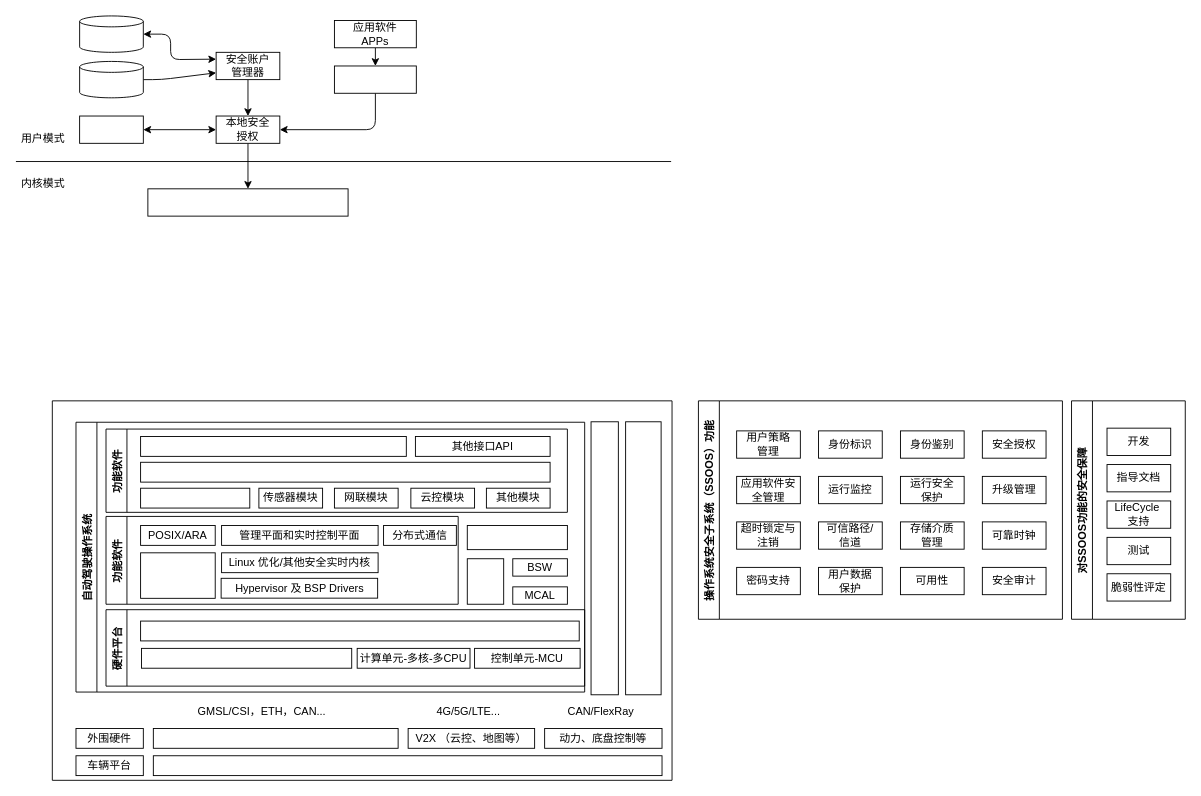
Image size: 1201x796. Some labels were removed from this diagram. The centre of each missing label's shape, as x and y in pixels:
"AI 单元 GPU/FPGA/ASIC AI 芯片 + CPU" belongs at pixel 246 657.
"AUTOSAR RTE" belongs at pixel 516 537.
"Linux 等" belongs at pixel 177 575.
"OS Runtime" belongs at pixel 247 202.
"Safety RTOS" belongs at pixel 485 581.
"上下文环境 子系统" belongs at pixel 375 79.
"安全登录 过程" belongs at pixel 111 129.
"审计记录" belongs at pixel 111 79.
"工具链（开发、仿真、调试、测试等）" belongs at pixel 643 558.
"异构分布硬件架构" belongs at pixel 359 630.
"摄像头、雷达、GPS、惯导等传感器" belongs at pixel 275 738.
"操作系统安全子系统功能及安全保障" belongs at pixel 604 558.
"深度学习和视觉模块" belongs at pixel 195 497.
"用户账户" belongs at pixel 111 33.
"算法接口API" belongs at pixel 273 446.
"自动驾驶车辆工程、功能需求、平台技术、整车集成" belongs at pixel 407 765.
"自动驾驶通用框架（感知、规划、控制）" belongs at pixel 345 471.
